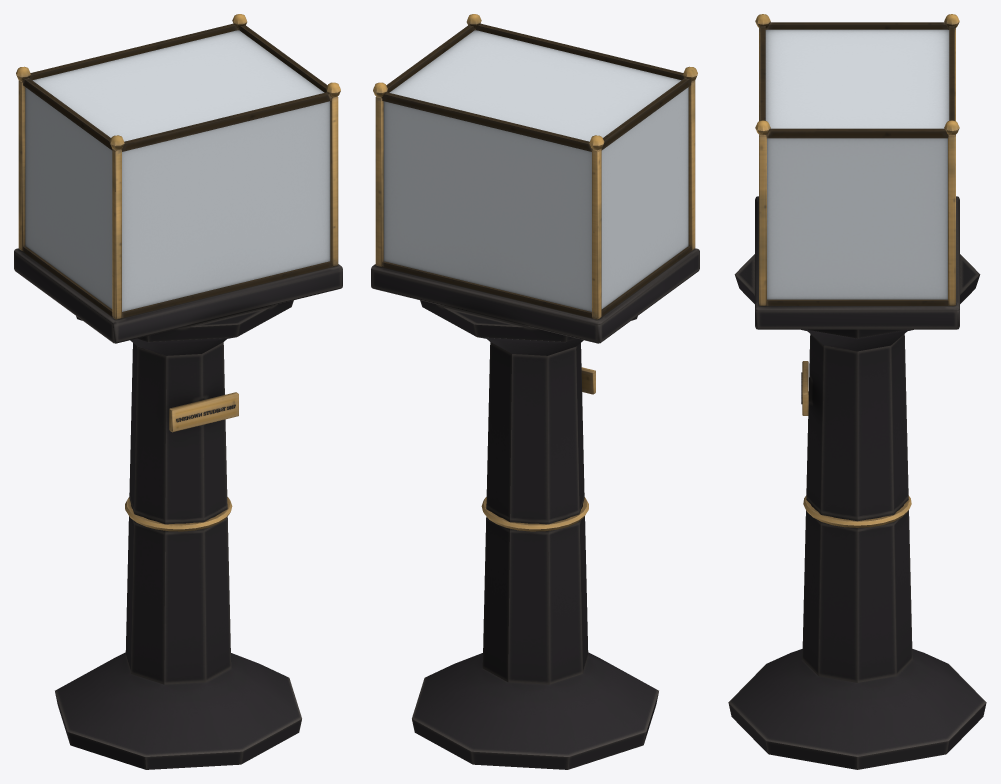
Rendered from DeathMaskCase.fbx.
3 renders of one model, left to right at view 1: azimuth 30°, elevation 25°; view 2: azimuth 150°, elevation 25°; view 3: azimuth 270°, elevation 25°, orthographic.
Parts seen in each view (by area): view 1: DeathMaskCase_Main, DeathMaskCase_Glass; view 2: DeathMaskCase_Main, DeathMaskCase_Glass; view 3: DeathMaskCase_Main, DeathMaskCase_Glass.
Part boxes in pixels (x1,y1,x2,y2): DeathMaskCase_Main: (14,14,342,769); DeathMaskCase_Glass: (25,30,330,311); DeathMaskCase_Main: (371,14,699,769); DeathMaskCase_Glass: (383,30,688,311); DeathMaskCase_Main: (728,14,986,769); DeathMaskCase_Glass: (765,29,949,299).
Bounding box in the file's own units: 170 × 455 × 164.
